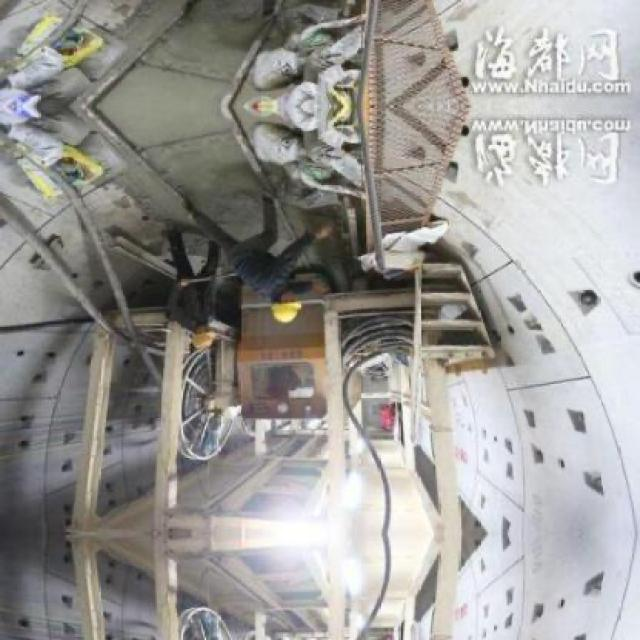con casco: (157, 284, 281, 360), (258, 264, 328, 322)
